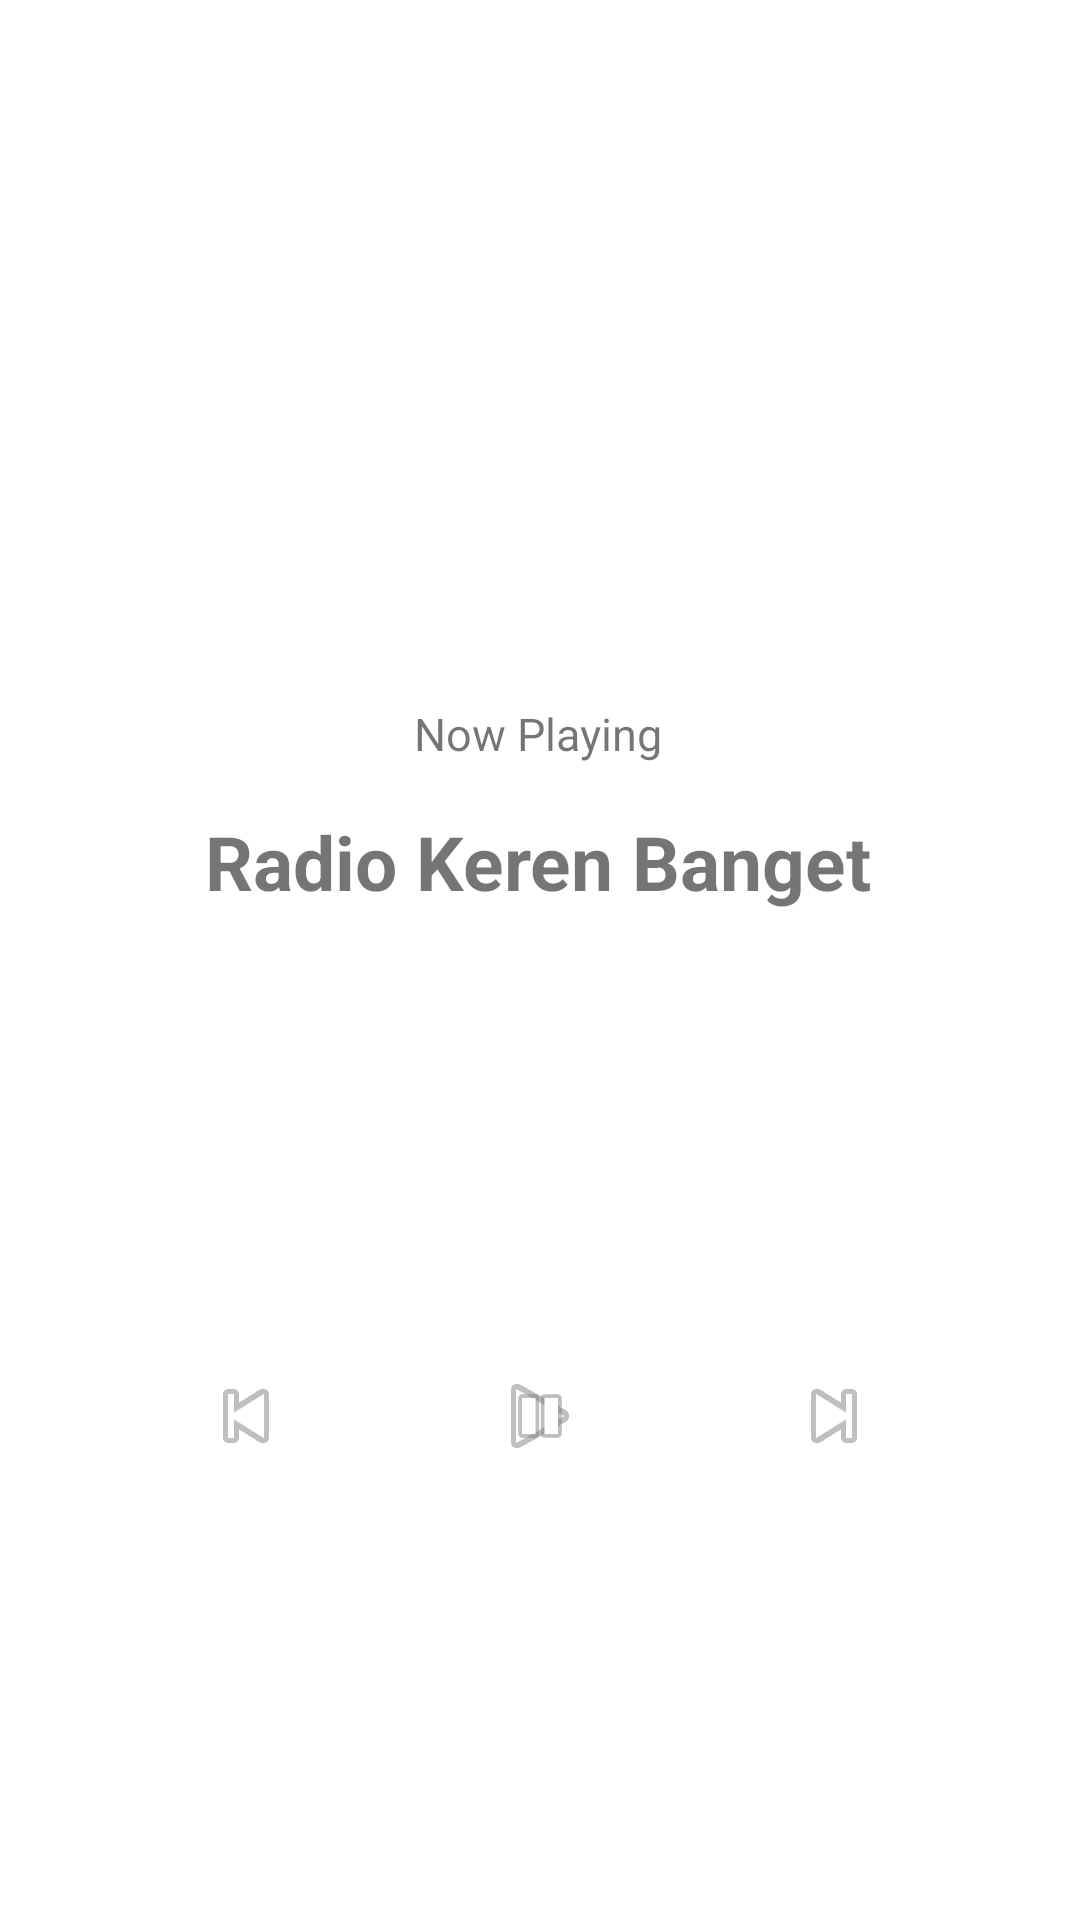

Screen size 1080 × 1920. Icon name, then its box in pixels as BBox(x1, y1, x2, y2):
next: BBox(811, 1389, 857, 1443)
previous: BBox(223, 1389, 269, 1443)
